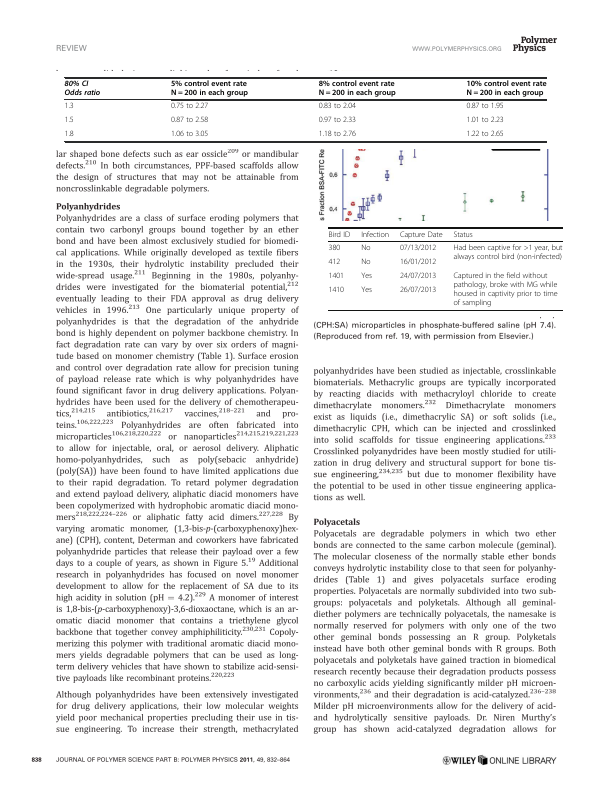borderless: (63, 76, 546, 141), (328, 226, 563, 310)
cell: (452, 271, 558, 308), (452, 243, 563, 262), (466, 80, 547, 98), (170, 80, 249, 98), (318, 80, 397, 98), (64, 80, 101, 97), (399, 230, 443, 239), (399, 243, 437, 253), (399, 257, 437, 267), (399, 271, 437, 281), (399, 285, 437, 295), (170, 103, 209, 110), (318, 103, 357, 110), (466, 103, 505, 110), (170, 117, 209, 124), (318, 117, 357, 124), (466, 117, 505, 124), (170, 131, 209, 138), (318, 131, 357, 138), (466, 131, 505, 138), (360, 230, 390, 239), (328, 230, 351, 239), (452, 230, 474, 239), (328, 271, 345, 281), (328, 285, 345, 295), (328, 243, 341, 253), (328, 257, 341, 267), (360, 271, 373, 281), (360, 285, 373, 295), (360, 243, 371, 253), (360, 257, 371, 267), (64, 103, 74, 110), (64, 117, 74, 124), (64, 131, 74, 138)
